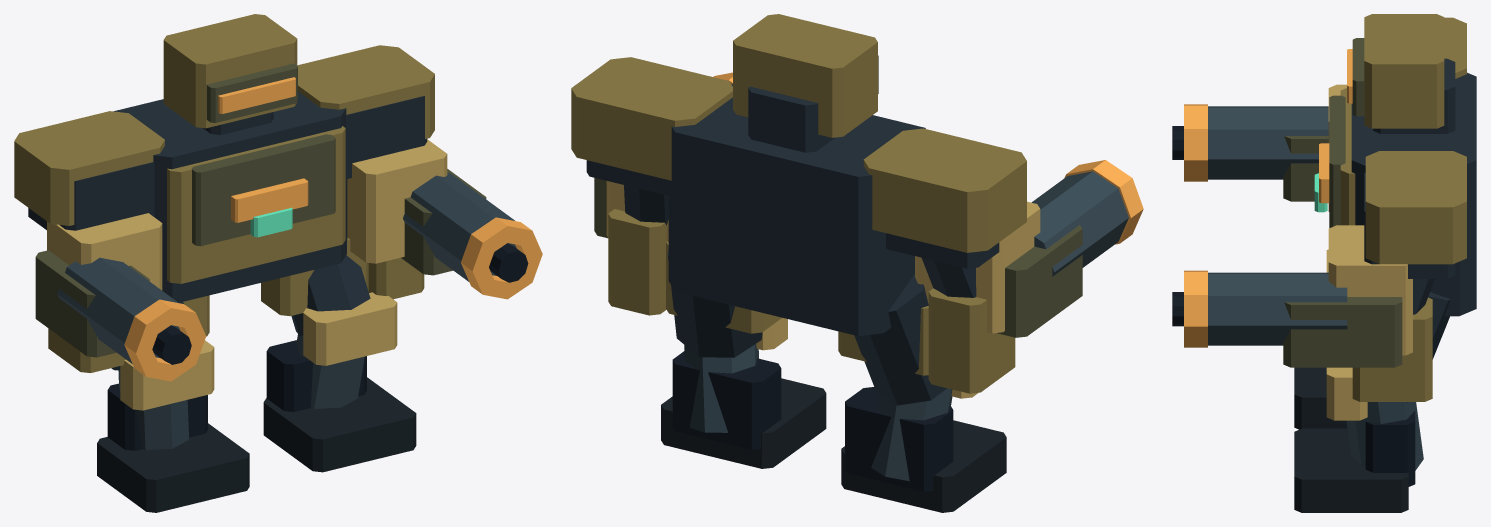
The model's file is enemy_gunner_lod.obj.
The picture shows the model from 3 angles, left to right: view 1: azimuth 30°, elevation 25°; view 2: azimuth 150°, elevation 25°; view 3: azimuth 270°, elevation 25°; orthographic projection. The views are drawn at different scales.
Bounding box in the file's own units: 2.2 × 2.08 × 1.41.
